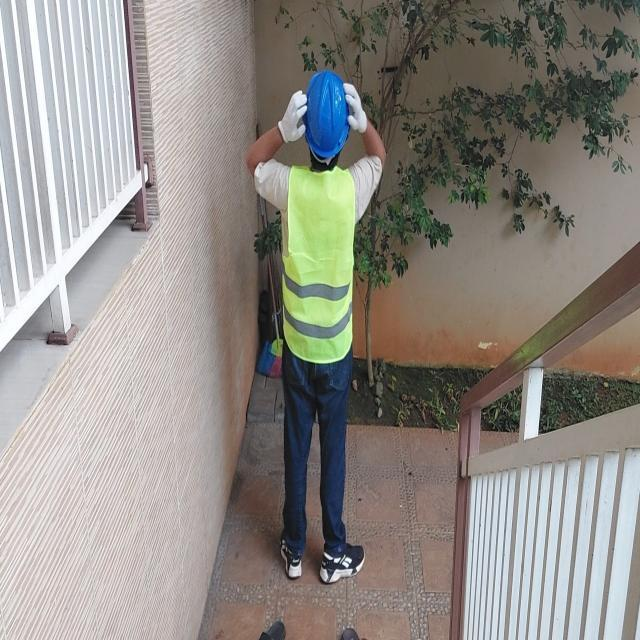Capacete: (304, 70, 349, 158)
Colete: (283, 167, 354, 363)
